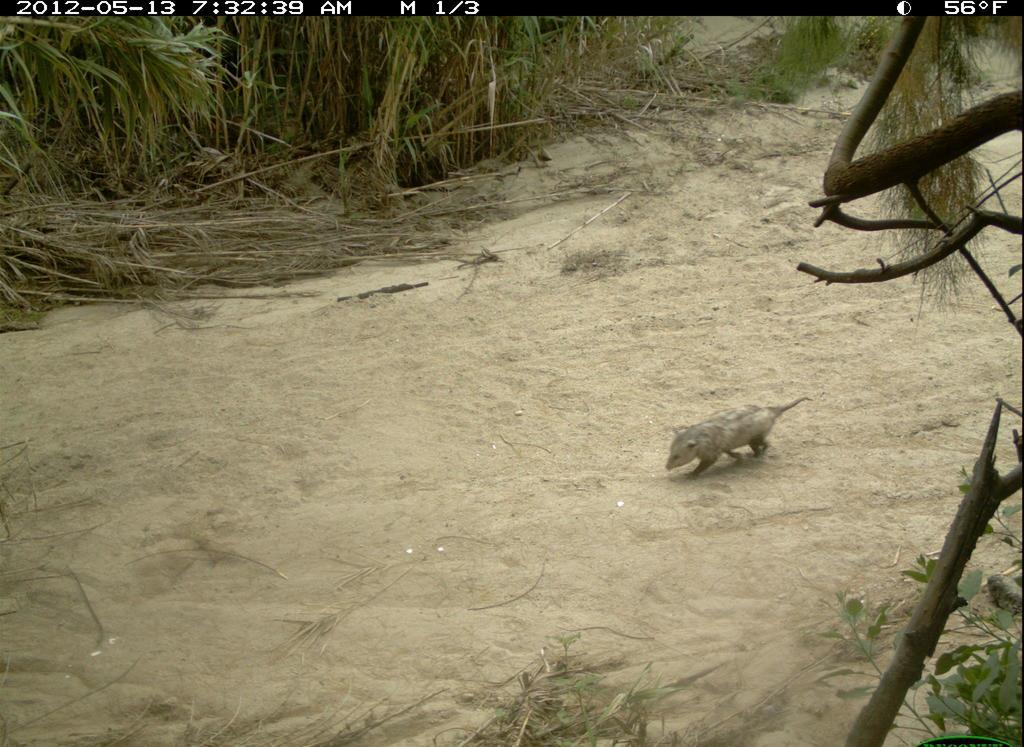opossum: (651, 383, 824, 486)
